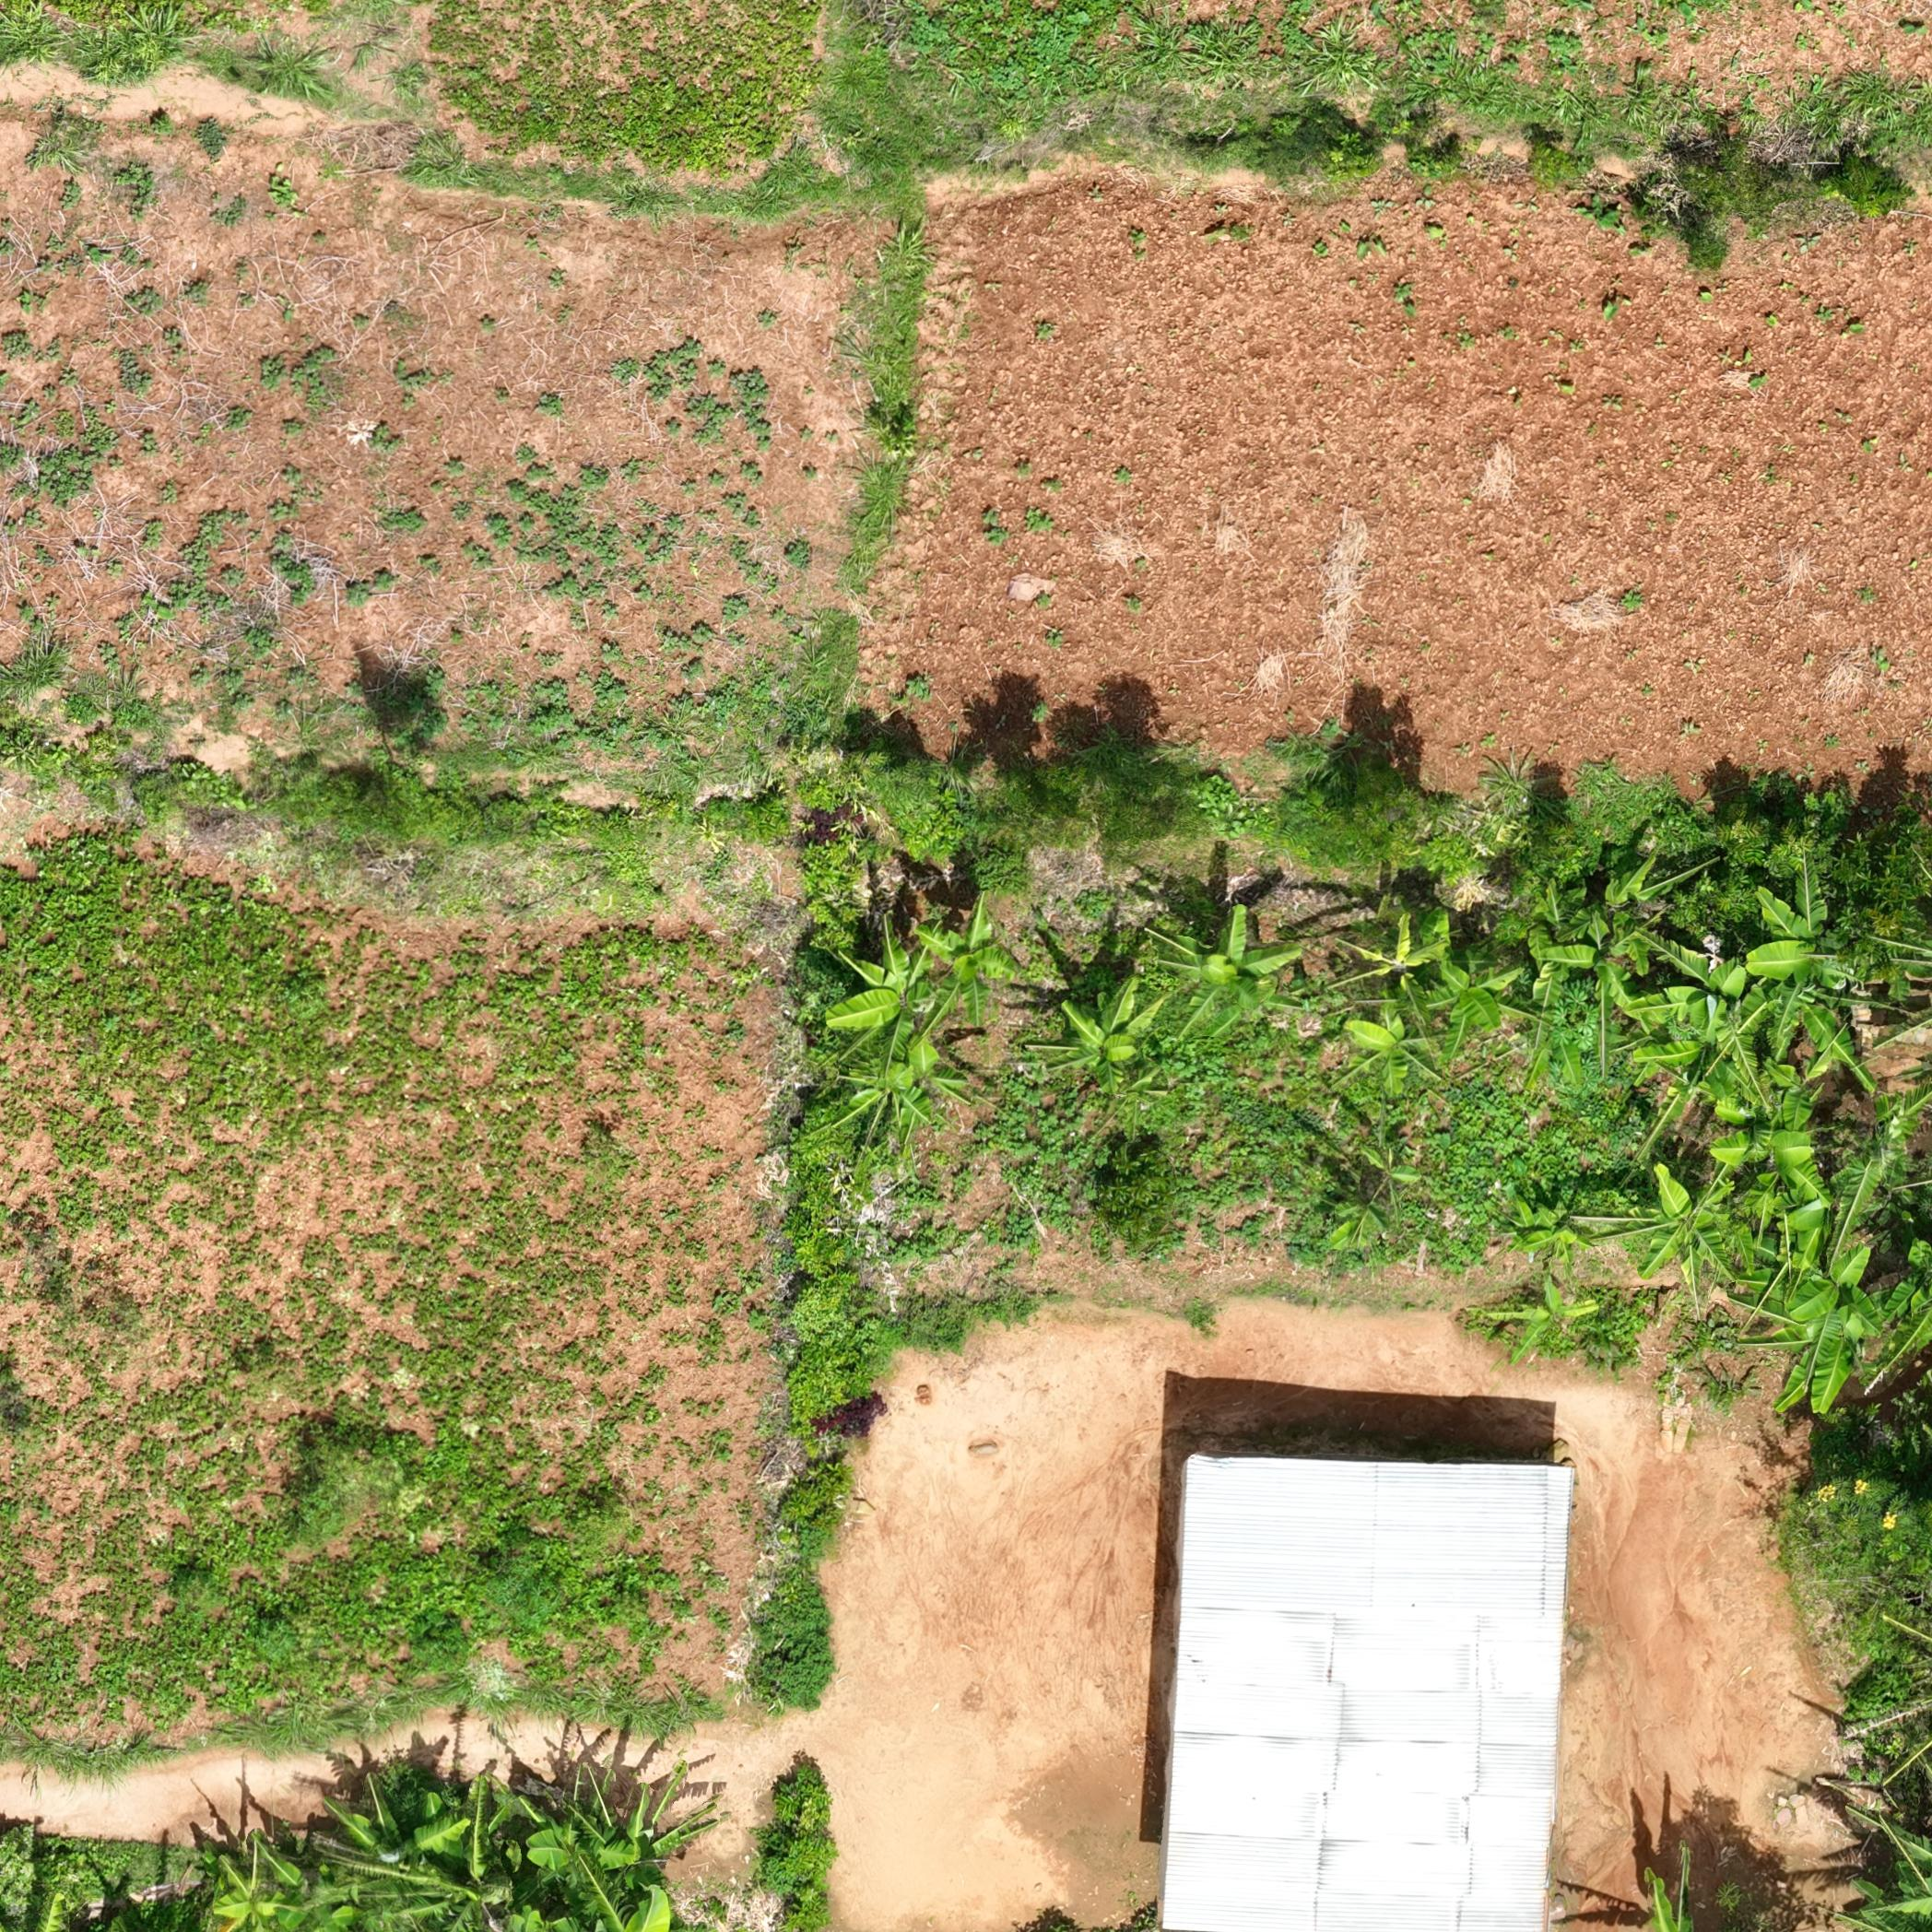Banana: (1721, 862, 1911, 1085), (318, 1769, 471, 1920), (418, 1783, 575, 1920), (823, 908, 962, 1053), (1030, 980, 1171, 1095), (1468, 1269, 1633, 1366), (1704, 1104, 1838, 1212), (1470, 1182, 1619, 1265), (198, 1851, 313, 1928), (1345, 1131, 1426, 1210)
